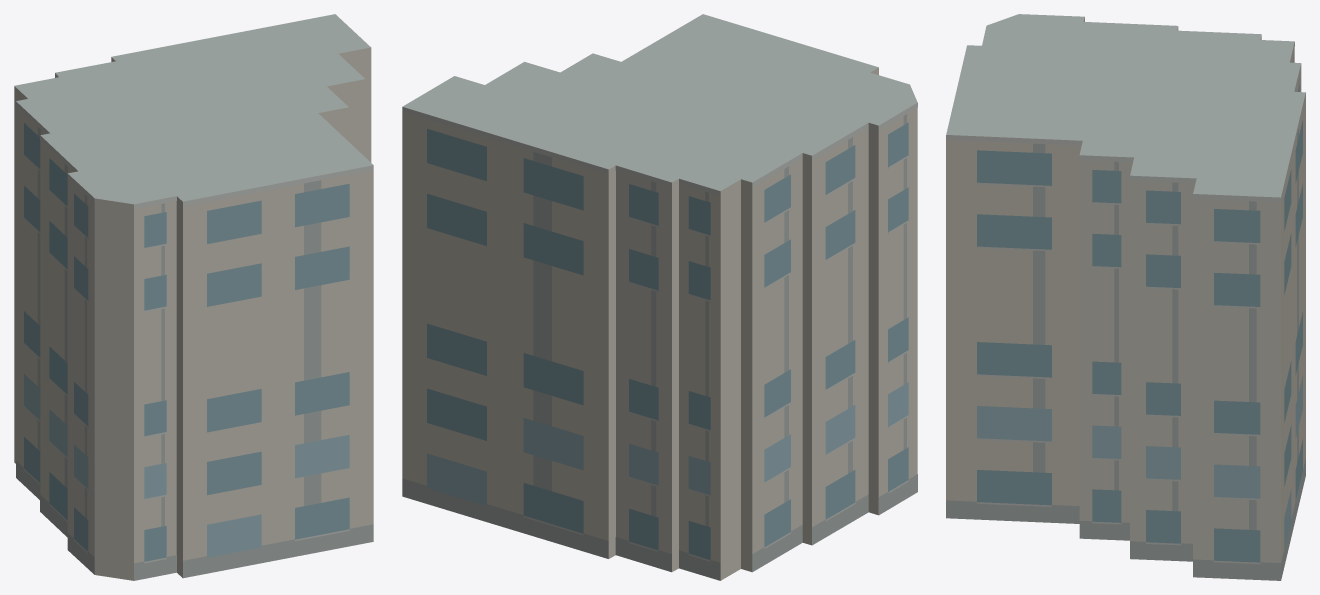
File: survey-upis-32871720.glb
3 views of the same model, side by side, from view 1: azimuth 30°, elevation 25°; view 2: azimuth 150°, elevation 25°; view 3: azimuth 270°, elevation 25° (orthographic). The views are drawn at different scales.
Visible parts, largest first — view 1: survey-upis-32871720.tmp; view 2: survey-upis-32871720.tmp; view 3: survey-upis-32871720.tmp.
Boxes of the visible parts, x1,y1,x2,y2 form: survey-upis-32871720.tmp: (14, 14, 373, 580); survey-upis-32871720.tmp: (402, 14, 917, 580); survey-upis-32871720.tmp: (946, 14, 1305, 580).
Bounding box in the file's own units: 19 × 18.5 × 15.74.
